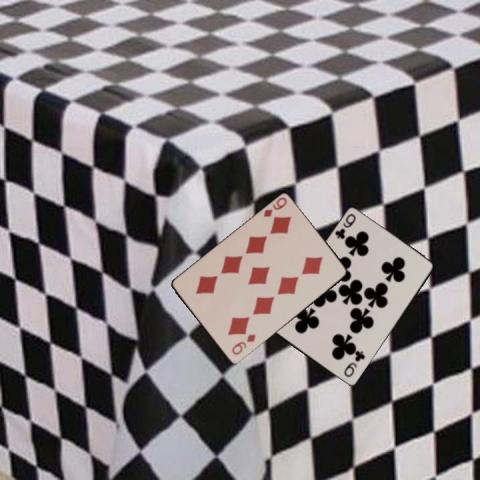9c: (340, 348, 366, 379), (332, 210, 357, 240)
9d: (229, 331, 257, 357), (260, 194, 288, 219)
